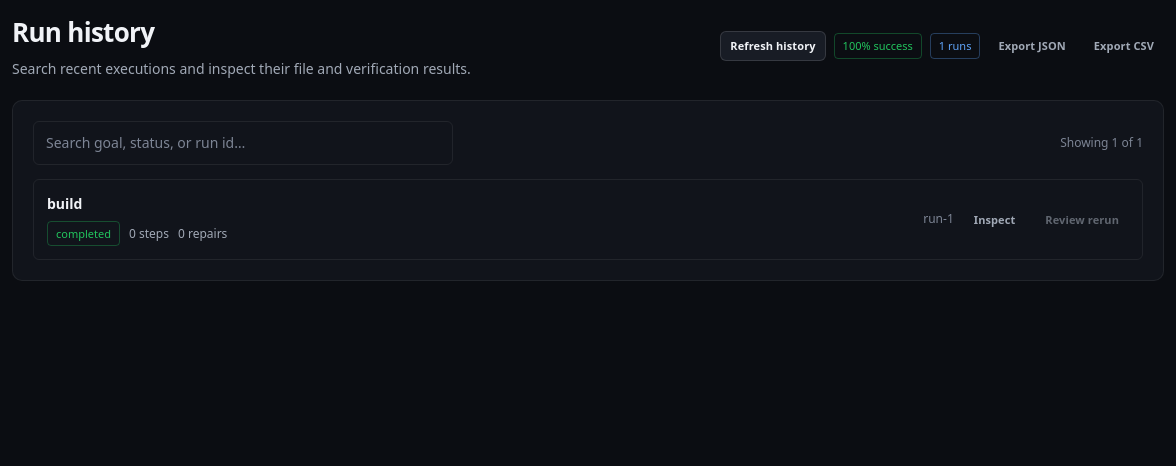
Test: Run history recovery › does not reopen a detail panel when a closed request completes
This screenshot has width=1176, height=466.
Click the button "Inspect".
click(995, 220)  # box left=964, top=205, right=1025, bottom=234
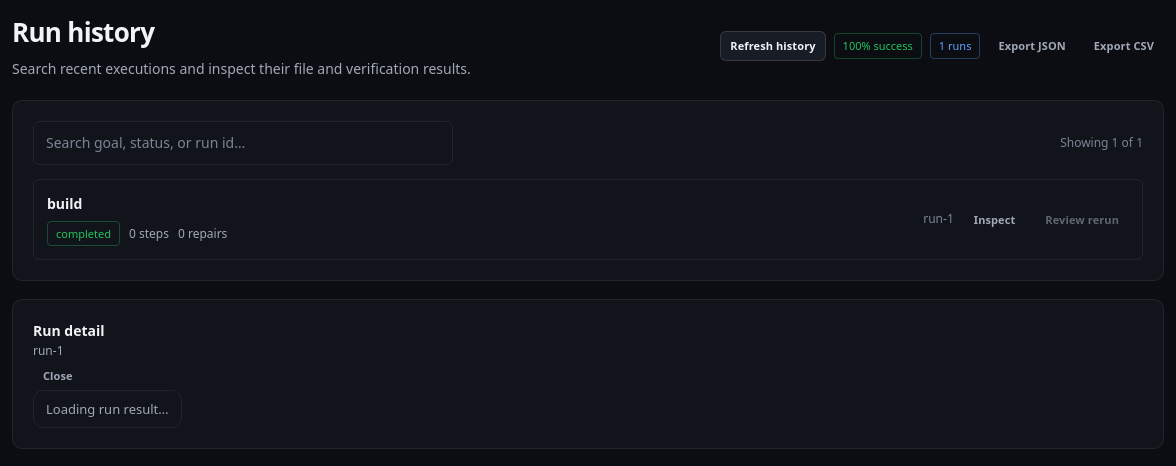
Click the button "Close".
click(58, 375)  # box left=33, top=361, right=83, bottom=390
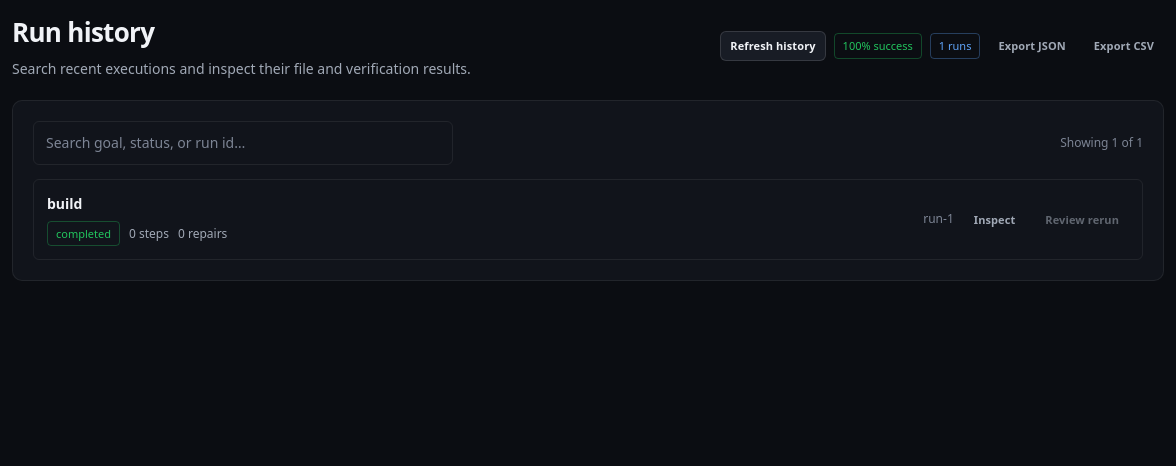
Expected: the text "Run detail" is gone
